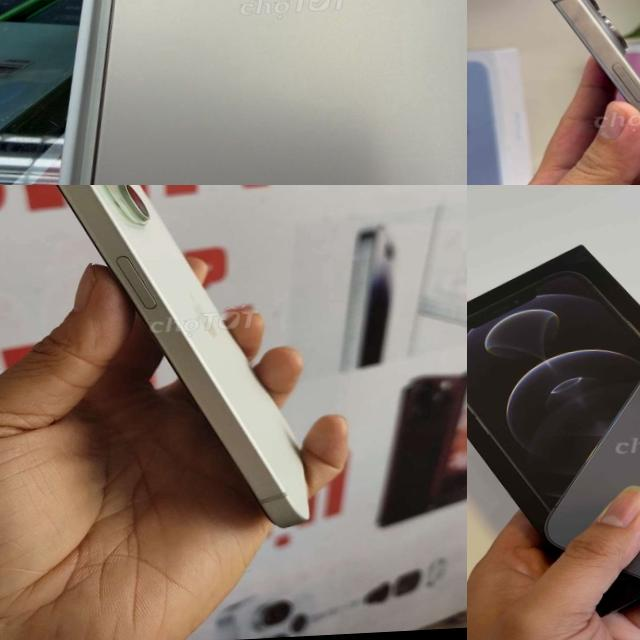gen_12_13: (528, 250, 640, 616)
gen_15: (14, 185, 345, 546), (522, 0, 640, 185)
gen_16: (61, 0, 467, 185)
